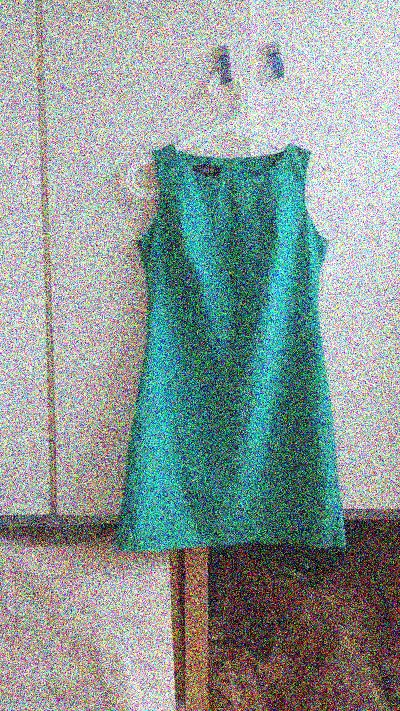Dress: (69, 109, 371, 593)
